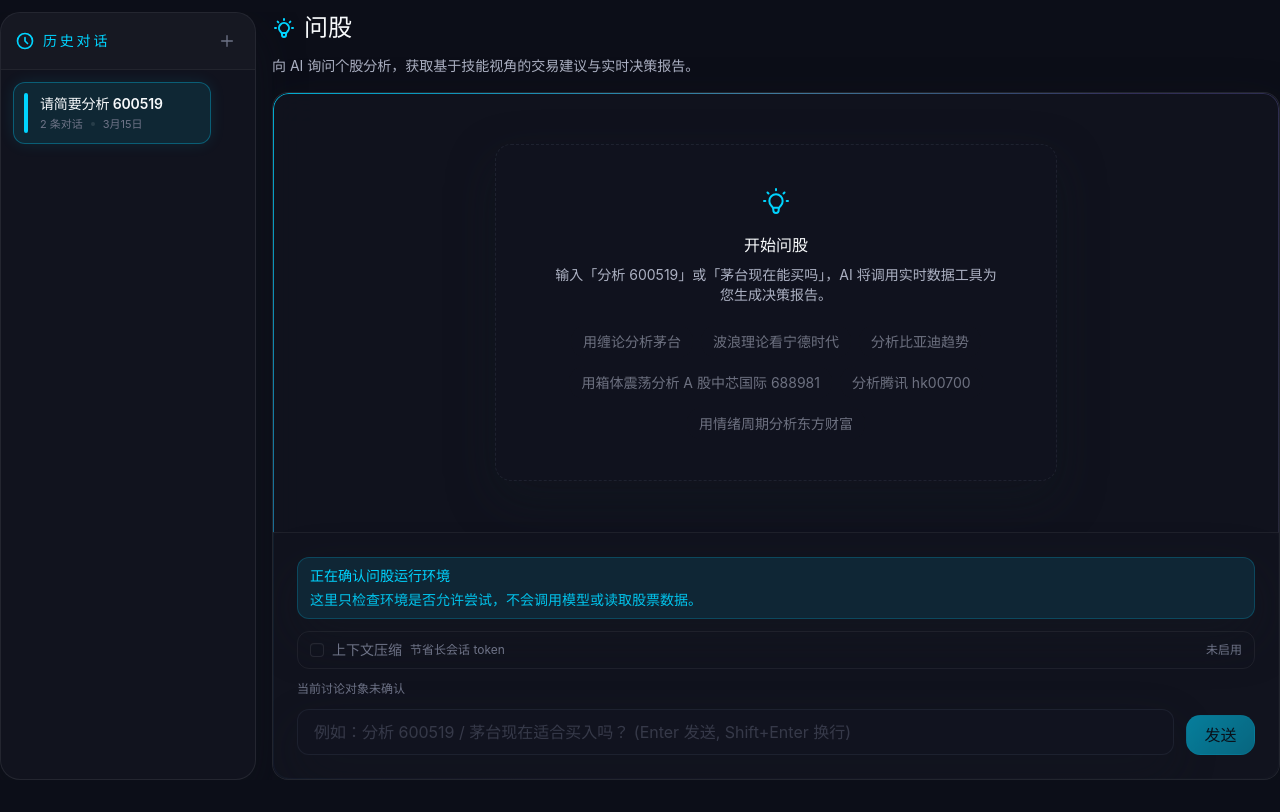
Test case: ChatPage › keeps the draft until the server accepts the turn
Later steps or results of the test are not shown.
Type "分析 AAPL" into the text box with placeholder "例如：分析 600519 / 茅台现在适合买入吗？ (Enter 发送, Shift+Enter 换行)" at (735, 732), box [297,709,1174,755]
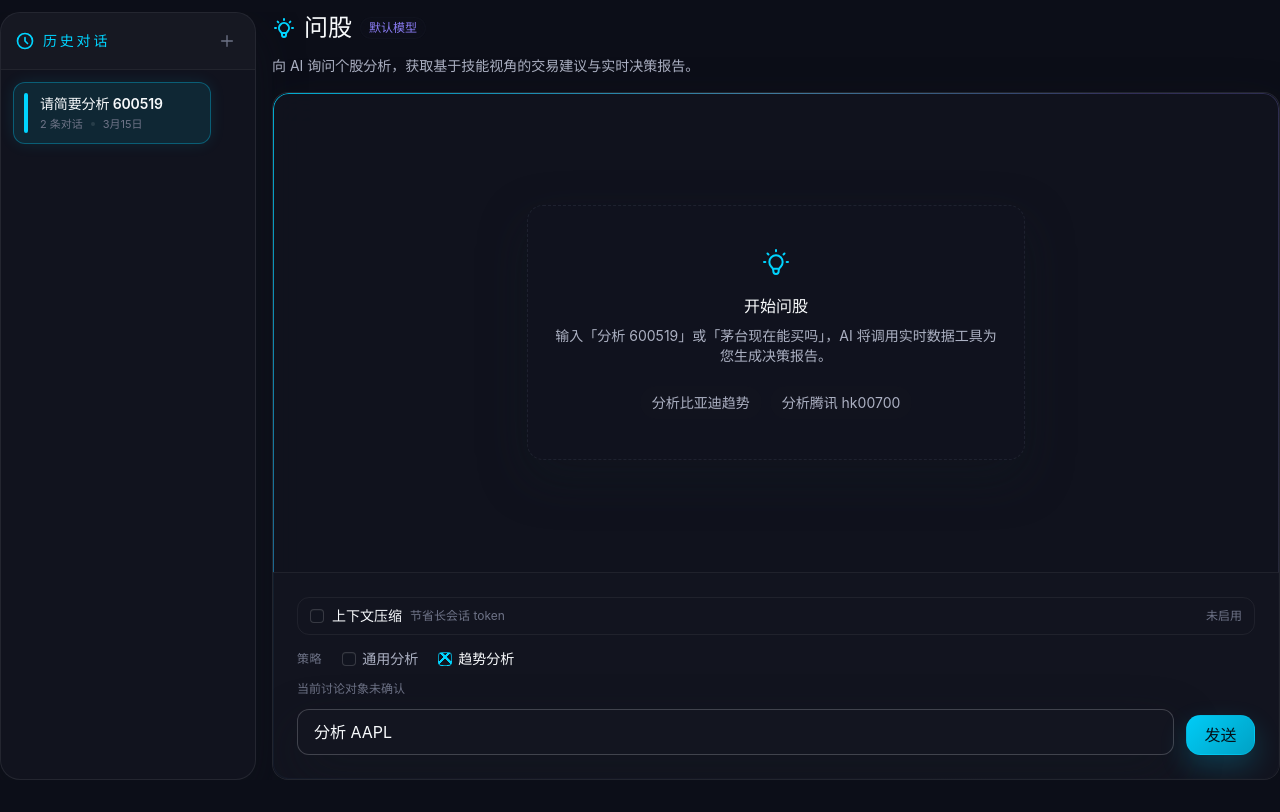
Click the button "发送" at (1220, 735), box [1186,715,1255,755]
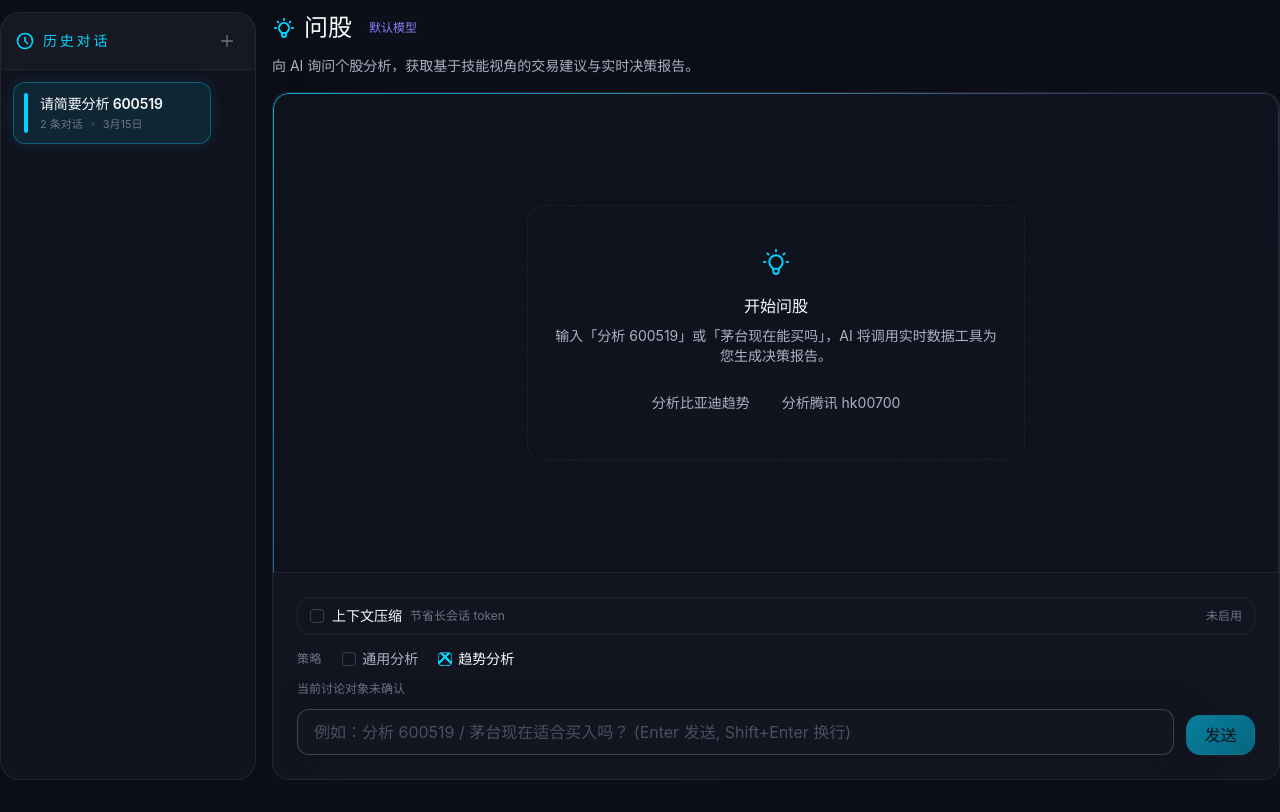
Expected: the text box with placeholder "例如：分析 600519 / 茅台现在适合买入吗？ (Enter 发送, Shift+Enter 换行)" is empty, [297,709,1174,755]
